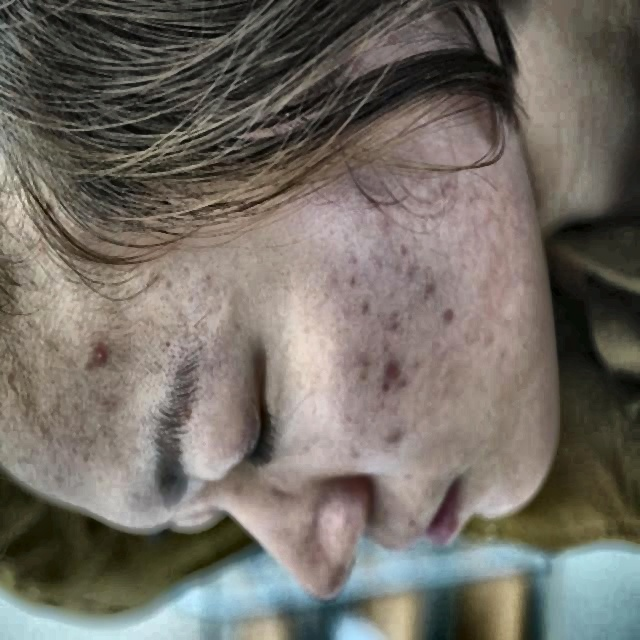comedone: (85, 335, 116, 385), (387, 369, 422, 410), (440, 294, 460, 334)
